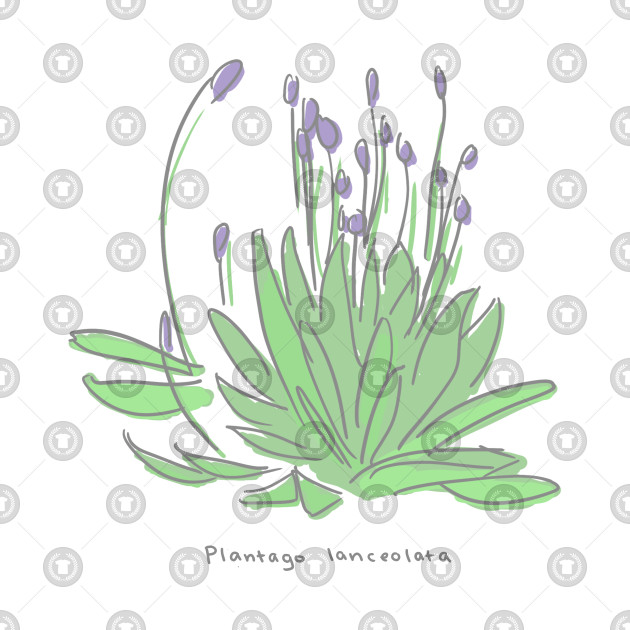buckhorn plantain: (136, 43, 529, 519)
